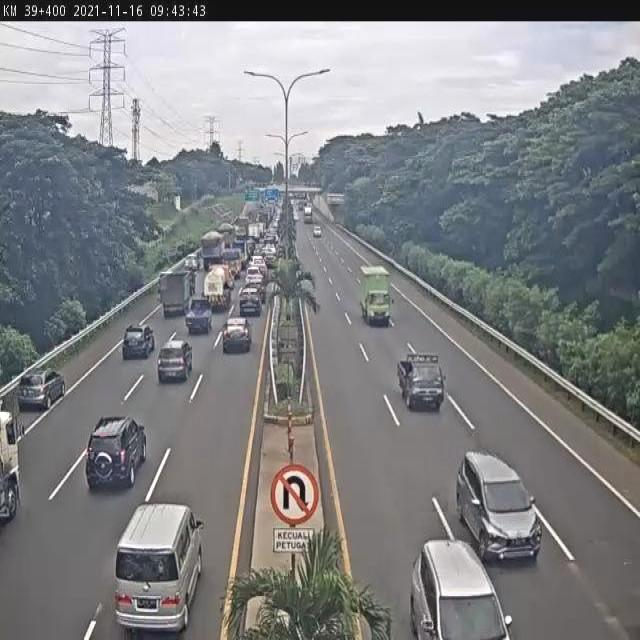Car: (458, 447, 544, 566), (85, 415, 147, 490), (16, 368, 66, 409), (158, 338, 194, 383), (123, 323, 155, 363), (222, 316, 252, 353), (238, 287, 262, 317)
Truck: (396, 352, 448, 414), (359, 264, 392, 326), (157, 271, 190, 318), (203, 267, 231, 313), (184, 298, 213, 334)
Van: (111, 502, 202, 633)
